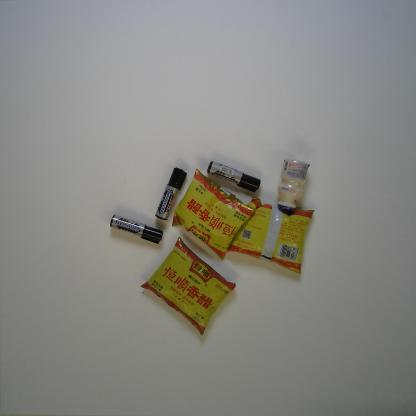Milk: (277, 158, 310, 211)
Seasoner: (139, 236, 237, 336), (171, 168, 256, 260), (226, 196, 316, 275)
Stationery: (154, 166, 188, 222), (206, 160, 262, 193), (110, 214, 164, 244)
